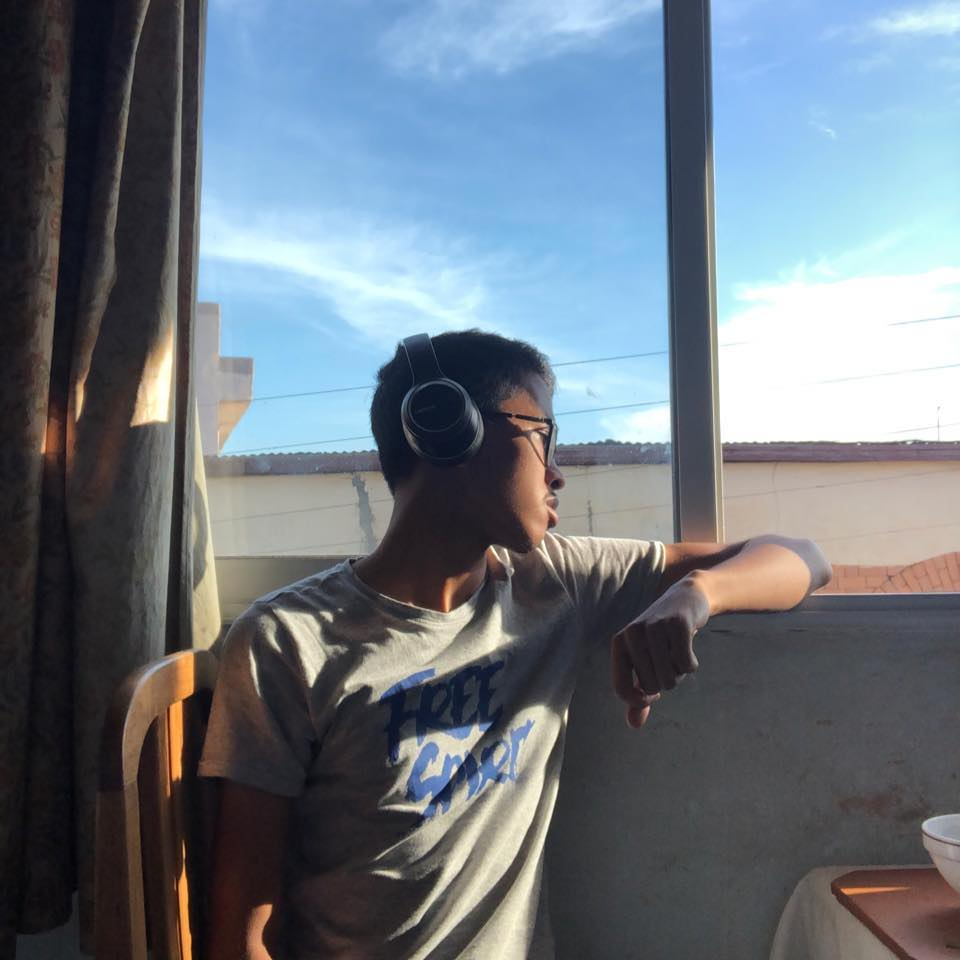BOY: (357, 326, 565, 554)
